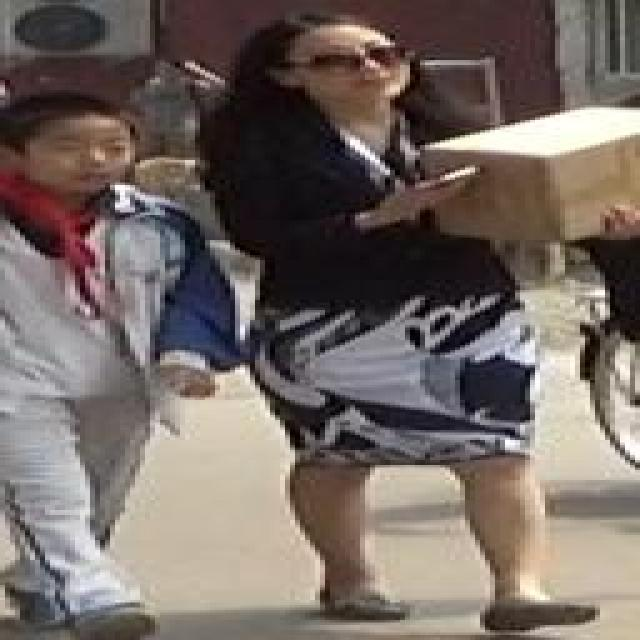adult: (218, 22, 610, 616)
child: (0, 102, 236, 632)
